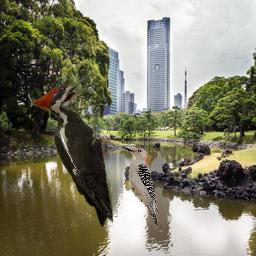Woodpecker: (30, 75, 113, 227), (122, 143, 162, 230)
